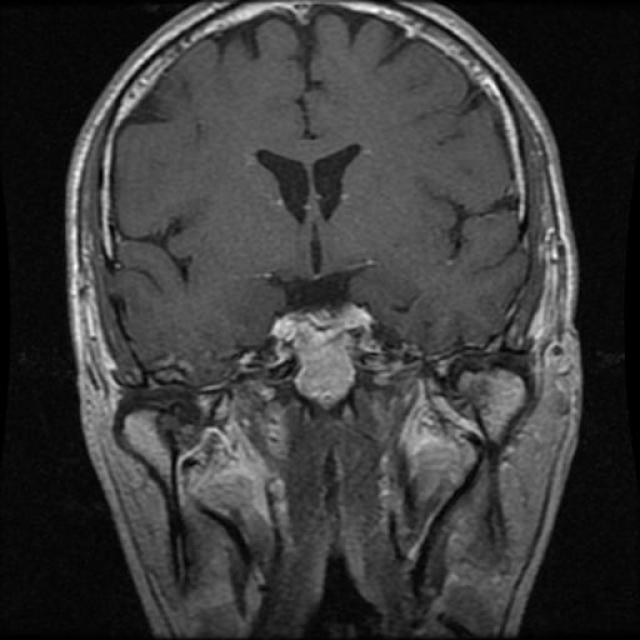brain_tumor: (272, 306, 380, 409)
